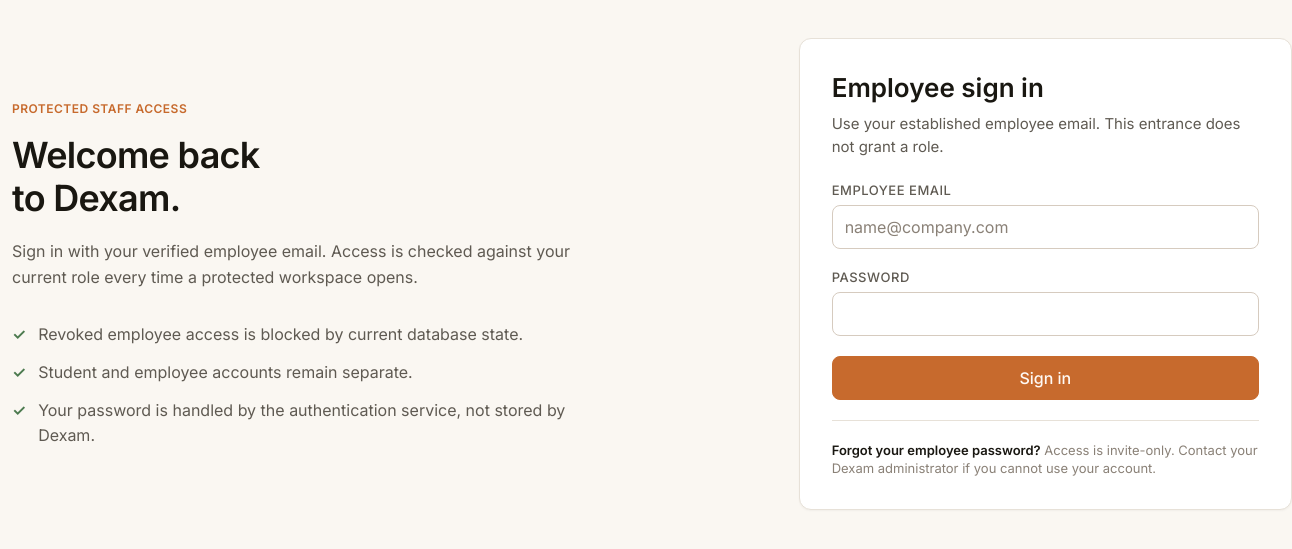
Test: StaffSignInPage › shows the safe generic error returned by the auth service
Step 1. Type "unknown@dexam.test" into the field labelled "Employee email" → x=1045, y=227, box [832,205,1259,249]
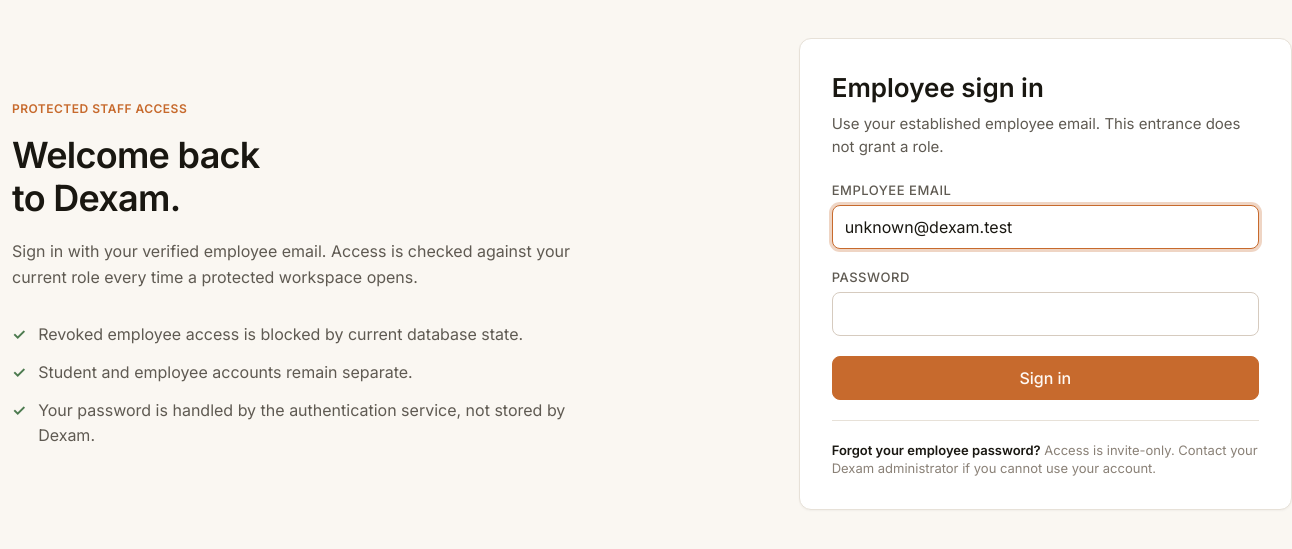
Step 2. Type "wrong password" into the password field labelled "Password" → x=1045, y=314, box [832,292,1259,336]
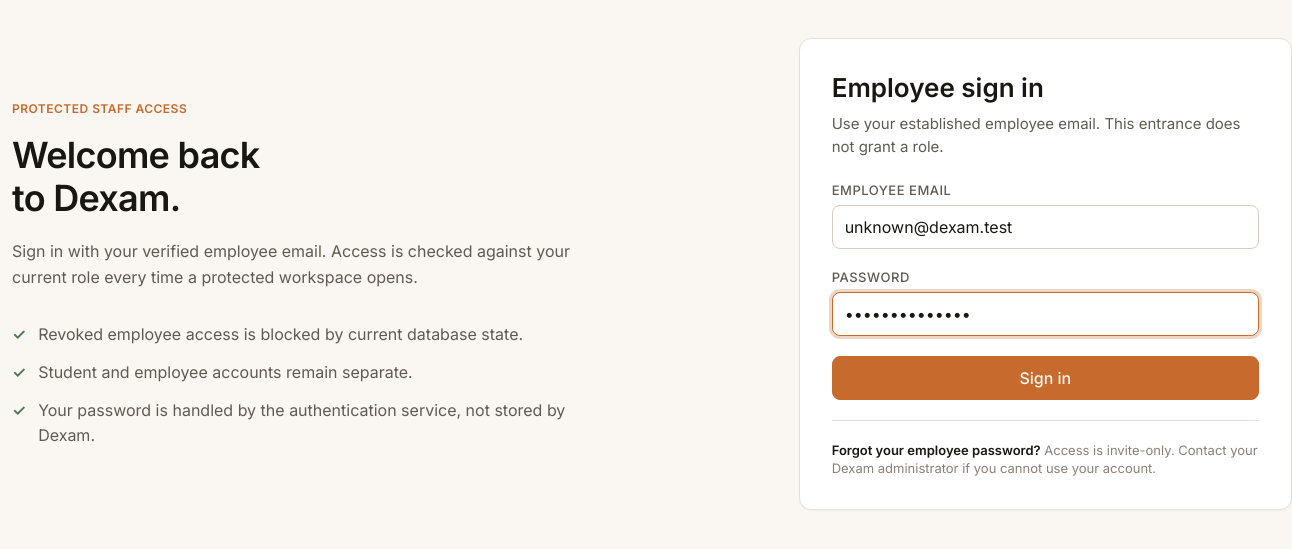
Step 3. Click the button "Sign in" → x=1045, y=378, box [832,356,1259,400]
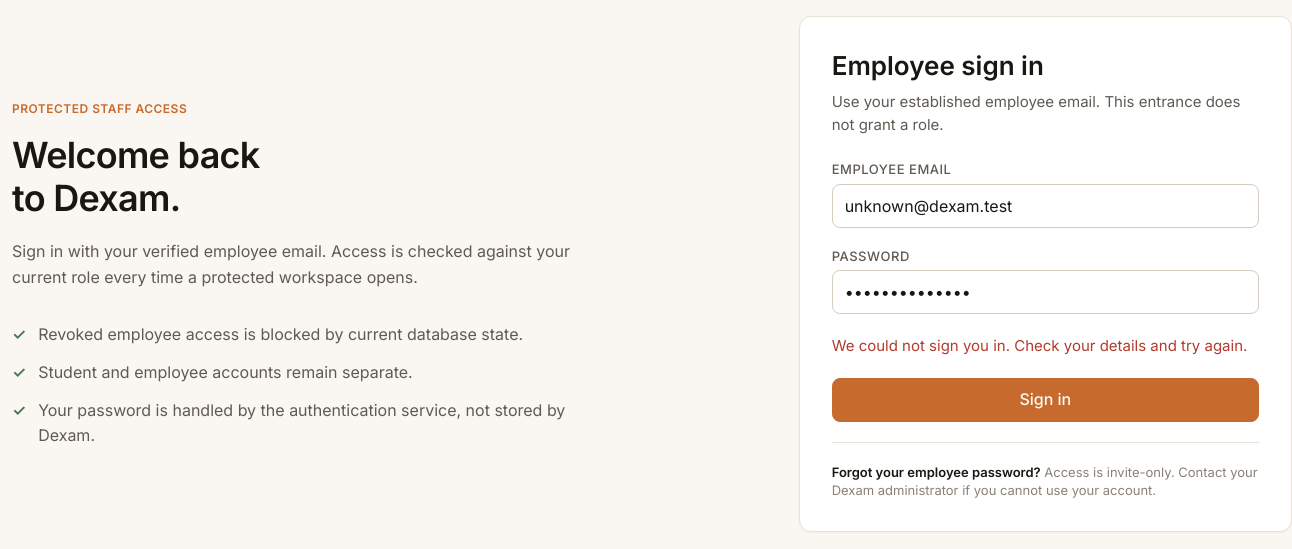
Expected: the message reads "We could not sign you in. Check your details and try again.", [832,336,1247,356]
